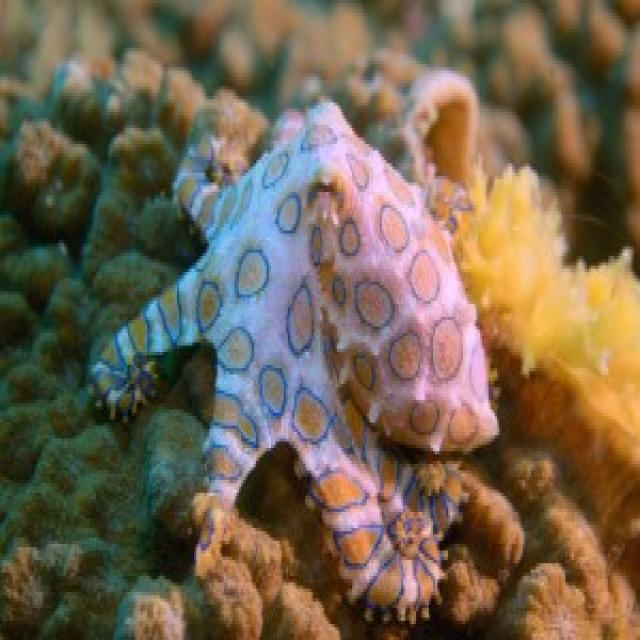Octo: (92, 94, 519, 576)
